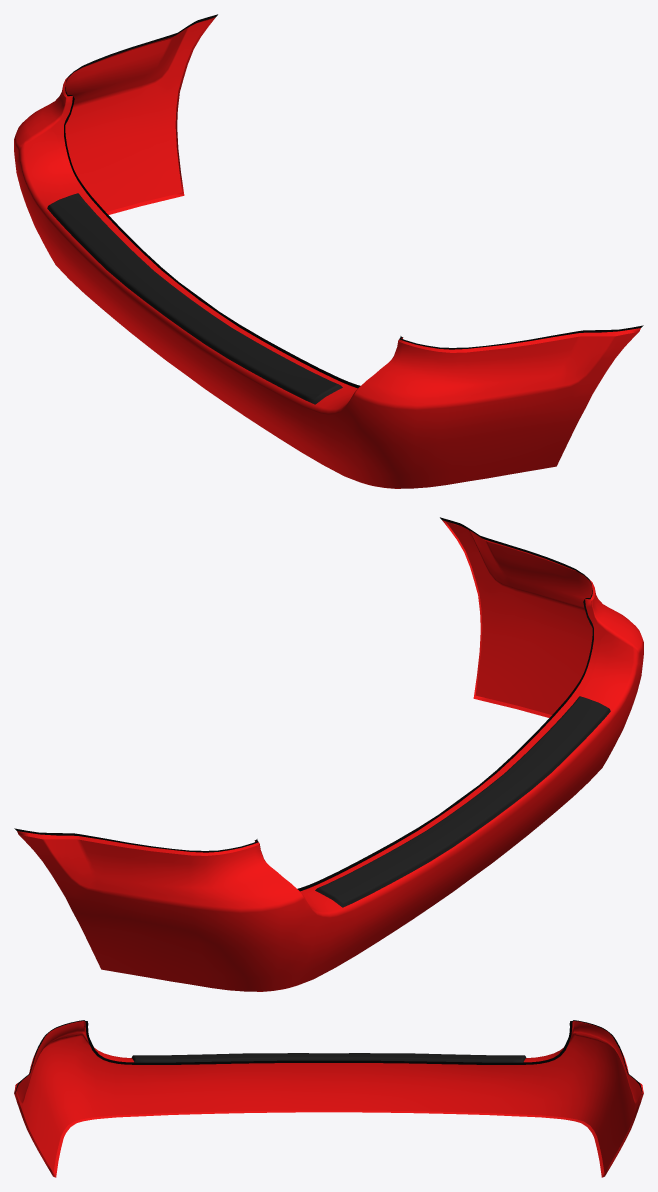
The picture shows the model from 3 angles, top to bottom: view 1: azimuth 30°, elevation 25°; view 2: azimuth 150°, elevation 25°; view 3: azimuth 270°, elevation 25°; orthographic projection. The views are drawn at different scales.
Visible parts, largest first — view 1: N664_9A_561G_C_1_DaS_N664_9A_561G_C, N664_9A_561G_C_N664_9A_561G_C_3_D, N664_9A_561G_C_1_DaS_N664_9A_561G_C_E, N664_9A_561G_C_N664_9A_561G_C_2_D; view 2: N664_9A_561G_C_1_DaS_N664_9A_561G_C, N664_9A_561G_C_N664_9A_561G_C_3_D, N664_9A_561G_C_1_DaS_N664_9A_561G_C_E, N664_9A_561G_C_N664_9A_561G_C_2_D; view 3: N664_9A_561G_C_1_DaS_N664_9A_561G_C, N664_9A_561G_C_N664_9A_561G_C_3_D, N664_9A_561G_C_1_DaS_N664_9A_561G_C_E, N664_9A_561G_C_N664_9A_561G_C_2_D.
Part boxes in pixels (x1,y1,x2,y2): N664_9A_561G_C_1_DaS_N664_9A_561G_C: [14, 19, 638, 488]; N664_9A_561G_C_N664_9A_561G_C_3_D: [47, 193, 342, 404]; N664_9A_561G_C_1_DaS_N664_9A_561G_C_E: [51, 17, 640, 488]; N664_9A_561G_C_N664_9A_561G_C_2_D: [64, 14, 643, 388]; N664_9A_561G_C_1_DaS_N664_9A_561G_C: [19, 522, 643, 991]; N664_9A_561G_C_N664_9A_561G_C_3_D: [315, 696, 610, 907]; N664_9A_561G_C_1_DaS_N664_9A_561G_C_E: [17, 520, 606, 991]; N664_9A_561G_C_N664_9A_561G_C_2_D: [14, 517, 593, 891]; N664_9A_561G_C_1_DaS_N664_9A_561G_C: [16, 1021, 641, 1172]; N664_9A_561G_C_N664_9A_561G_C_3_D: [131, 1053, 526, 1062]; N664_9A_561G_C_1_DaS_N664_9A_561G_C_E: [14, 1021, 643, 1177]; N664_9A_561G_C_N664_9A_561G_C_2_D: [15, 1020, 642, 1092].
Size of the model in its own units: 68.41 by 35.82 by 188.
